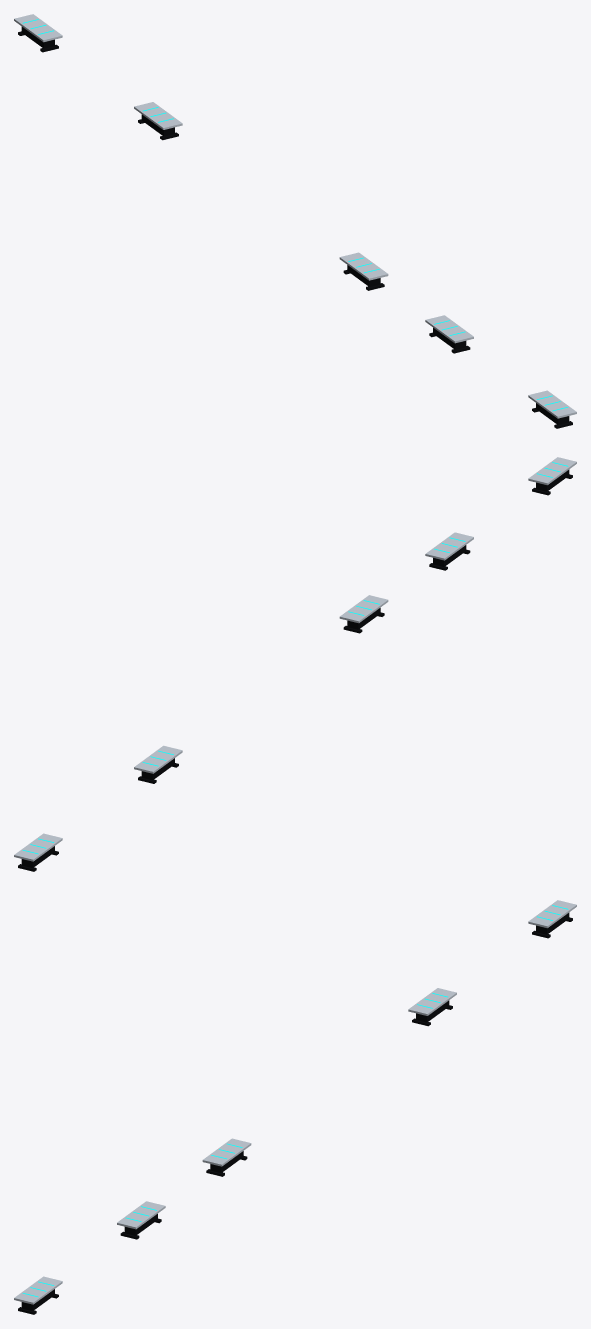
File: tt_gallery_benches.glb
3 renders of one model, top to bottom at view 1: azimuth 30°, elevation 25°; view 2: azimuth 150°, elevation 25°; view 3: azimuth 330°, elevation 25°, orthographic.
Visible parts, largest first — view 1: Bench_Seat, Bench_Pedestal; view 2: Bench_Seat, Bench_Pedestal; view 3: Bench_Seat, Bench_Pedestal.
Part boxes in pixels (x1,y1,x2,y2): Bench_Seat: (14,14,576,418); Bench_Pedestal: (21,26,569,424); Bench_Seat: (14,457,576,861); Bench_Pedestal: (21,469,569,867); Bench_Seat: (14,900,576,1304); Bench_Pedestal: (21,912,569,1310).
Size of what is drawn, in the model's own units: 0.65 by 0.472 by 31.72.
3 materials, 2 textured.
